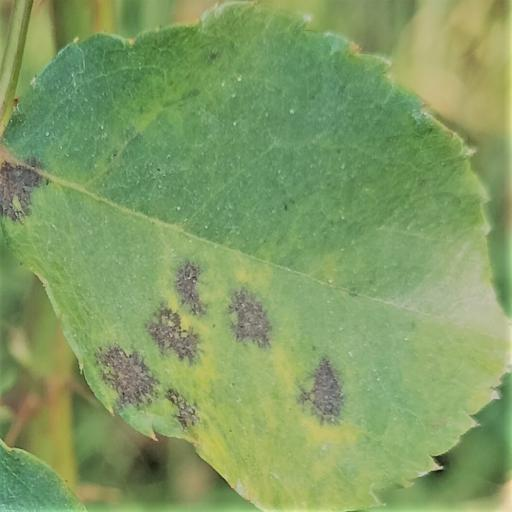black_spot: (0, 2, 510, 511)
